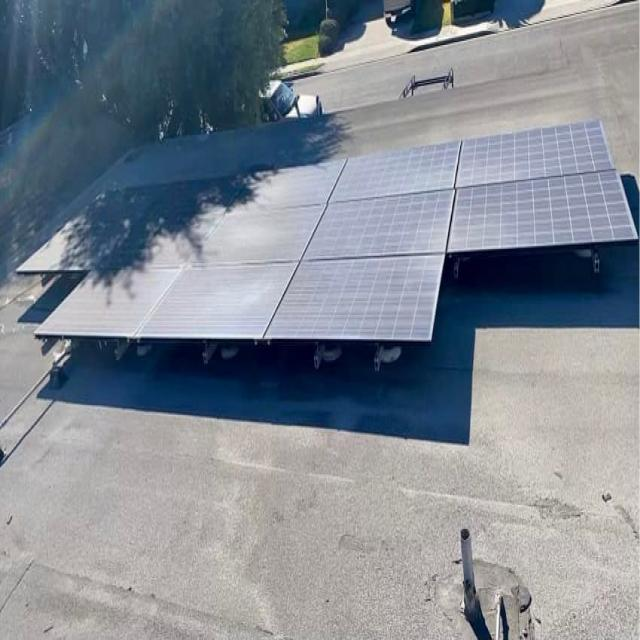dust-solar-panel: (16, 119, 600, 343)
